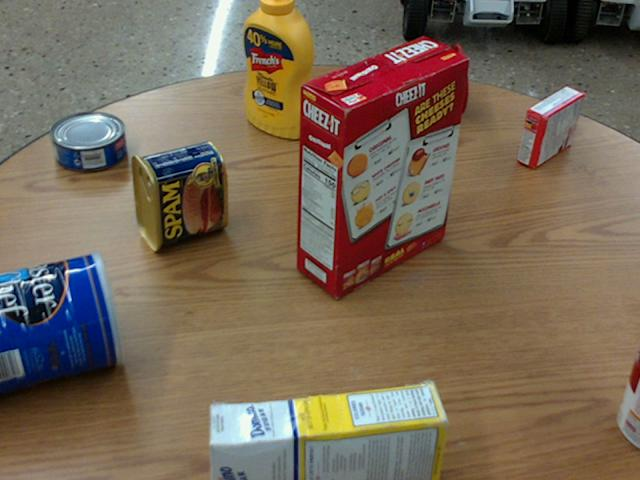cracker_box: (296, 36, 467, 296)
gelatin_box: (517, 87, 584, 169)
master_chef_can: (0, 250, 124, 391)
mug: (392, 41, 467, 115)
mustard_bottle: (241, 0, 312, 137)
potted_meat_can: (129, 139, 225, 249)
sugar_box: (203, 382, 446, 479)
tomato_soup_can: (616, 338, 639, 447)
tuna_fish_can: (51, 110, 125, 169)
